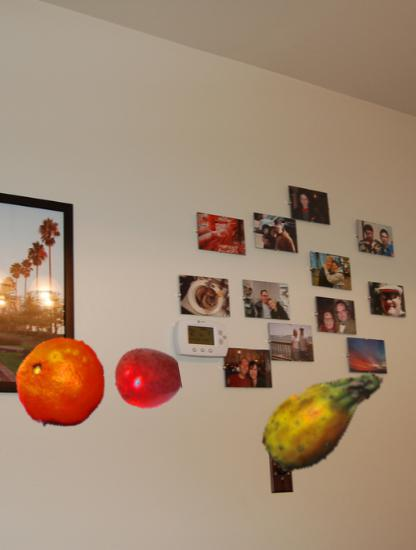Cactus: (252, 344, 394, 486)
Cherry: (114, 344, 181, 411)
Clementine: (13, 335, 109, 431)
